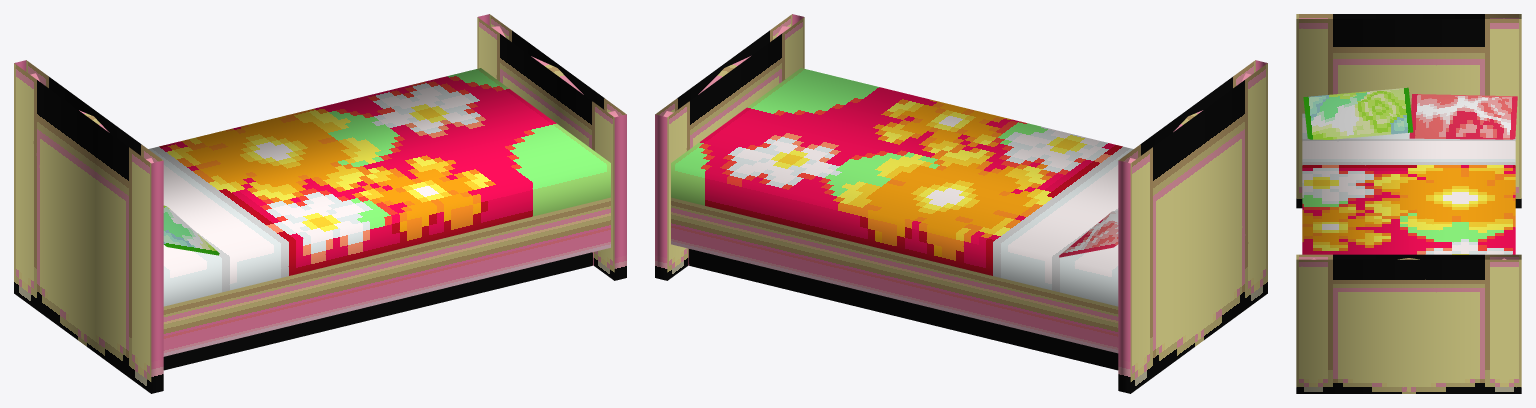
3 views of the same model, side by side, from view 1: azimuth 30°, elevation 25°; view 2: azimuth 150°, elevation 25°; view 3: azimuth 270°, elevation 25° (orthographic). The views are drawn at different scales.
Visible parts, largest first — view 1: 3666kg_ga_bed; view 2: 3666kg_ga_bed; view 3: 3666kg_ga_bed.
Boxes of the visible parts, bbox=[...] form: 3666kg_ga_bed: bbox=[14, 14, 626, 393]; 3666kg_ga_bed: bbox=[655, 14, 1267, 393]; 3666kg_ga_bed: bbox=[1296, 14, 1521, 393].
Bounding box in the file's own units: 1.9 × 0.8801 × 0.9492.
3 materials, 3 textured.
